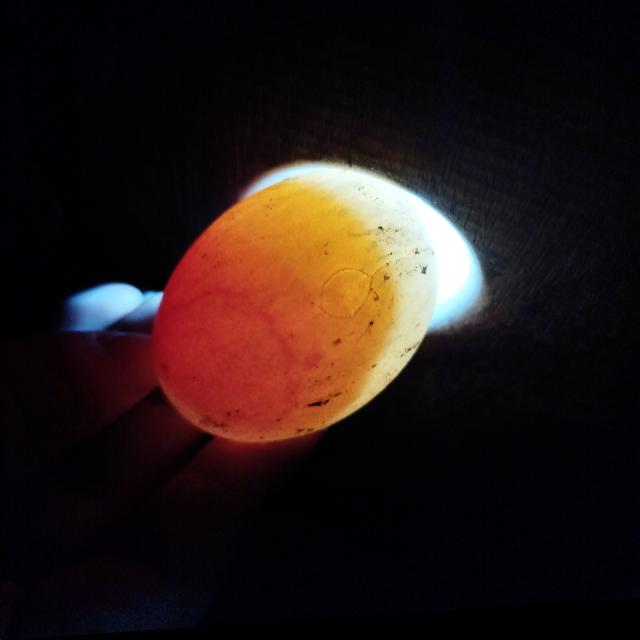Rachadura: (317, 274, 373, 323)
